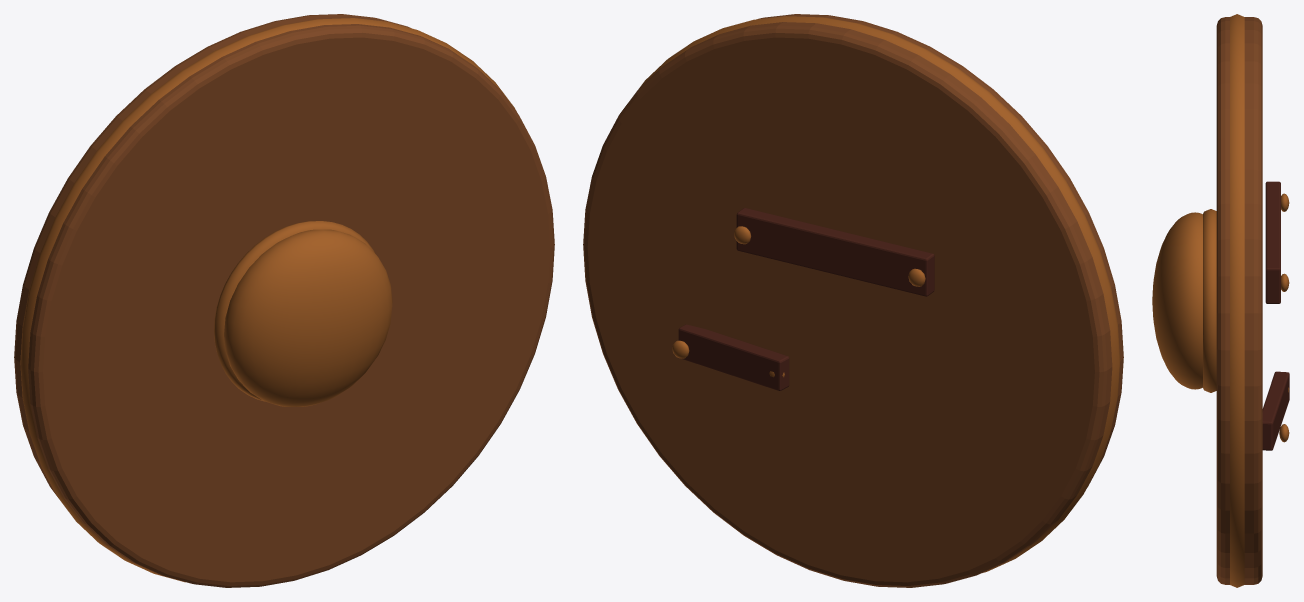
Rendered from aspis_shield.glb.
3 renders of one model, left to right at view 1: azimuth 30°, elevation 25°; view 2: azimuth 150°, elevation 25°; view 3: azimuth 270°, elevation 25°, orthographic. The views are drawn at different scales.
Visible parts, largest first — view 1: SM_Aspis_Shield; view 2: SM_Aspis_Shield; view 3: SM_Aspis_Shield.
Part boxes in pixels (x1=…): SM_Aspis_Shield: x1=14, y1=14, x2=554, y2=587; SM_Aspis_Shield: x1=583, y1=14, x2=1123, y2=587; SM_Aspis_Shield: x1=1152, y1=14, x2=1289, y2=587.
Bounding box in the file's own units: 0.94 × 0.94 × 0.2249.
